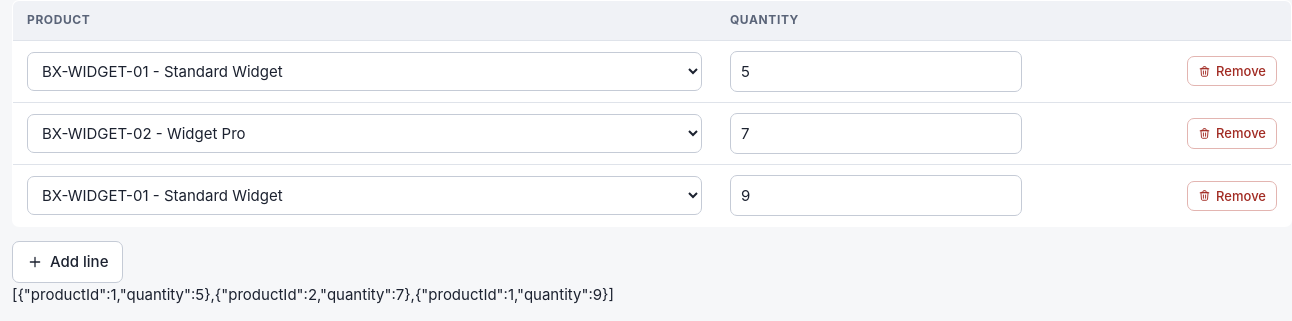
it: OrderLineEditor › keeps each row bound to its own values when one in the middle is removed
This screenshot has width=1292, height=321.
Click the 2nd button "Remove". click: (1232, 133)
box: x1=1187 y1=118 x2=1277 y2=148
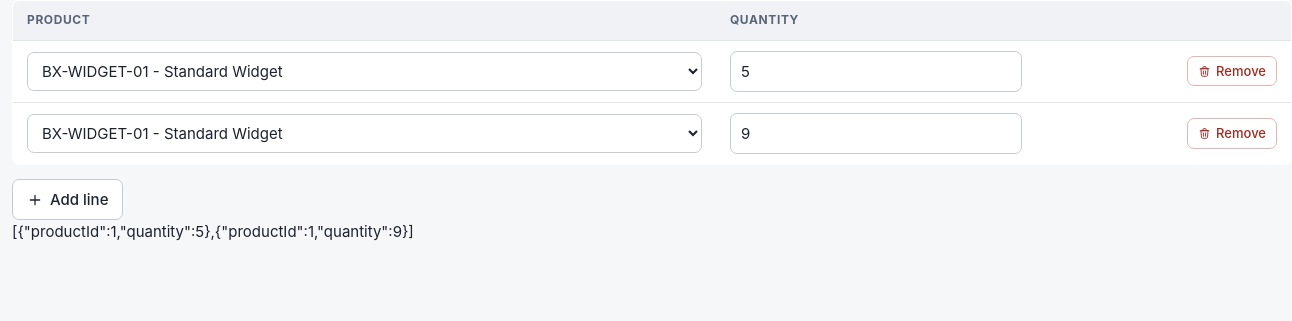
Check: the number field named "Quantity for line 1" holds "5", box x1=730 y1=51 x2=1022 y2=92
Check: the text with test id "payload" reads "[{\"productId\":1,\"quantity\":5},{\"productId\":1,\"quantity\":9}]", box x1=12 y1=222 x2=414 y2=241
